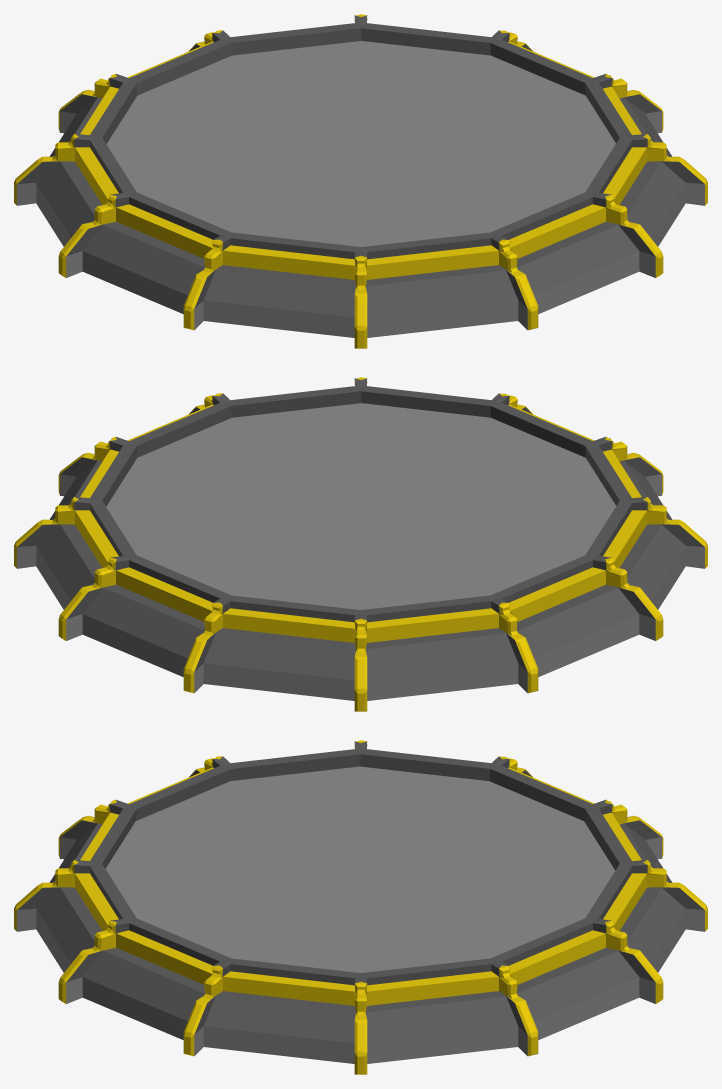
The model's file is Pedestal.fbx.
3 renders of one model, top to bottom at view 1: azimuth 30°, elevation 25°; view 2: azimuth 150°, elevation 25°; view 3: azimuth 270°, elevation 25°, orthographic.
Visible parts, largest first — view 1: Pedestal; view 2: Pedestal; view 3: Pedestal.
Part boxes in pixels (<box>): Pedestal: <box>14,14,707,348</box>; Pedestal: <box>14,377,707,711</box>; Pedestal: <box>14,740,707,1074</box>.
Bounding box in the file's own units: 5354 × 571 × 5354.
